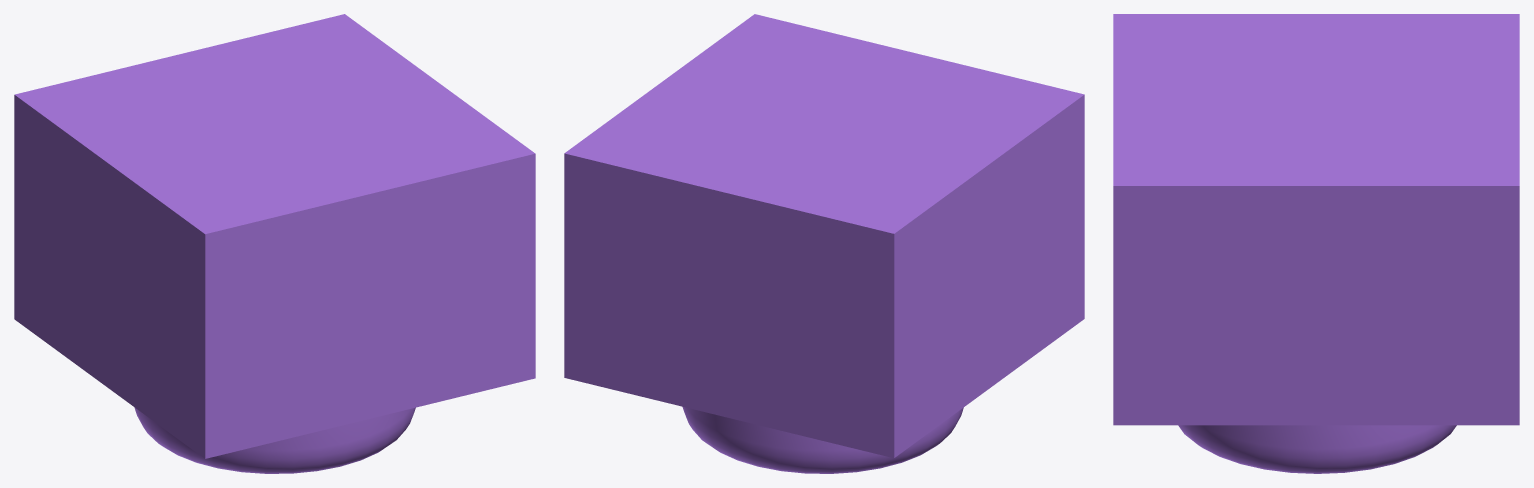
Rendered from leGaoAnimation.glb.
3 views of the same model, side by side, from view 1: azimuth 30°, elevation 25°; view 2: azimuth 150°, elevation 25°; view 3: azimuth 270°, elevation 25° (orthographic). The views are drawn at different scales.
Visible parts, largest first — view 1: 乐高模型; view 2: 乐高模型; view 3: 乐高模型.
Boxes of the visible parts, x1,y1,x2,y2 form: 乐高模型: (14, 14, 535, 473); 乐高模型: (564, 14, 1084, 473); 乐高模型: (1113, 14, 1519, 473).
Size of the model in its own units: 345 by 296 by 345.
